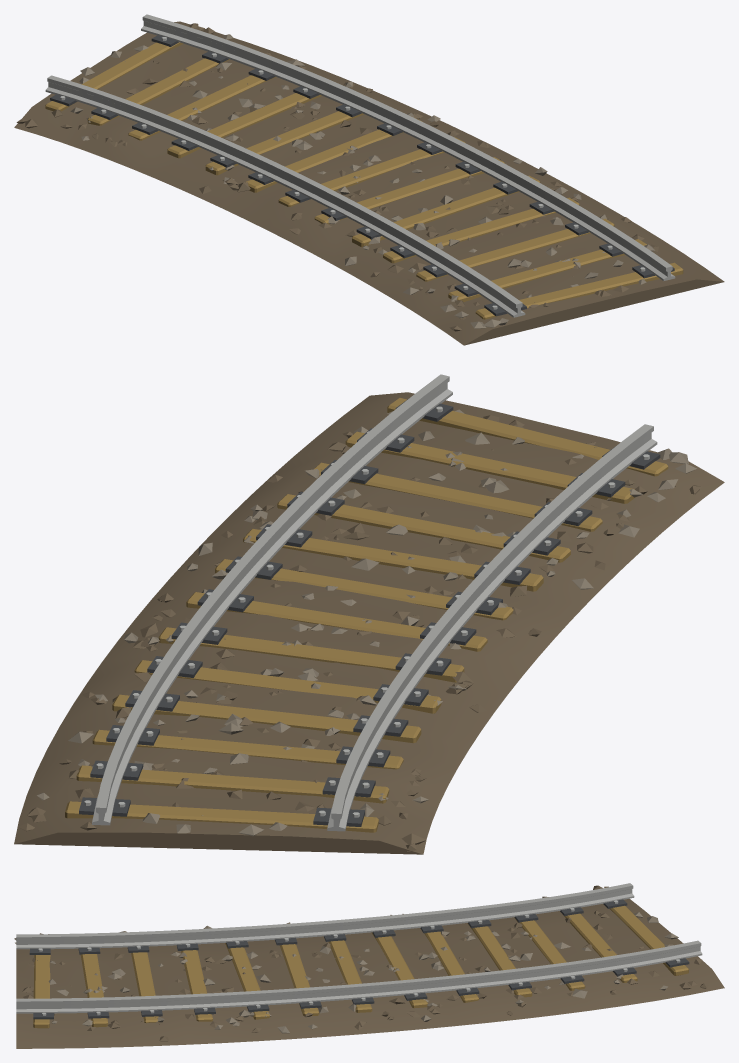
Rendered from curved-rail-a.glb.
3 views of the same model, one above another, from view 1: azimuth 30°, elevation 25°; view 2: azimuth 150°, elevation 25°; view 3: azimuth 270°, elevation 25° (orthographic). The views are drawn at different scales.
Visible parts, largest first — view 1: body; view 2: body; view 3: body.
Part boxes in pixels (left/top/right/bottom): body: left=14, top=14, right=724, bottom=345; body: left=14, top=374, right=724, bottom=854; body: left=14, top=883, right=724, bottom=1048.
Size of the model in its own units: 2.93 by 0.2216 by 5.47.
